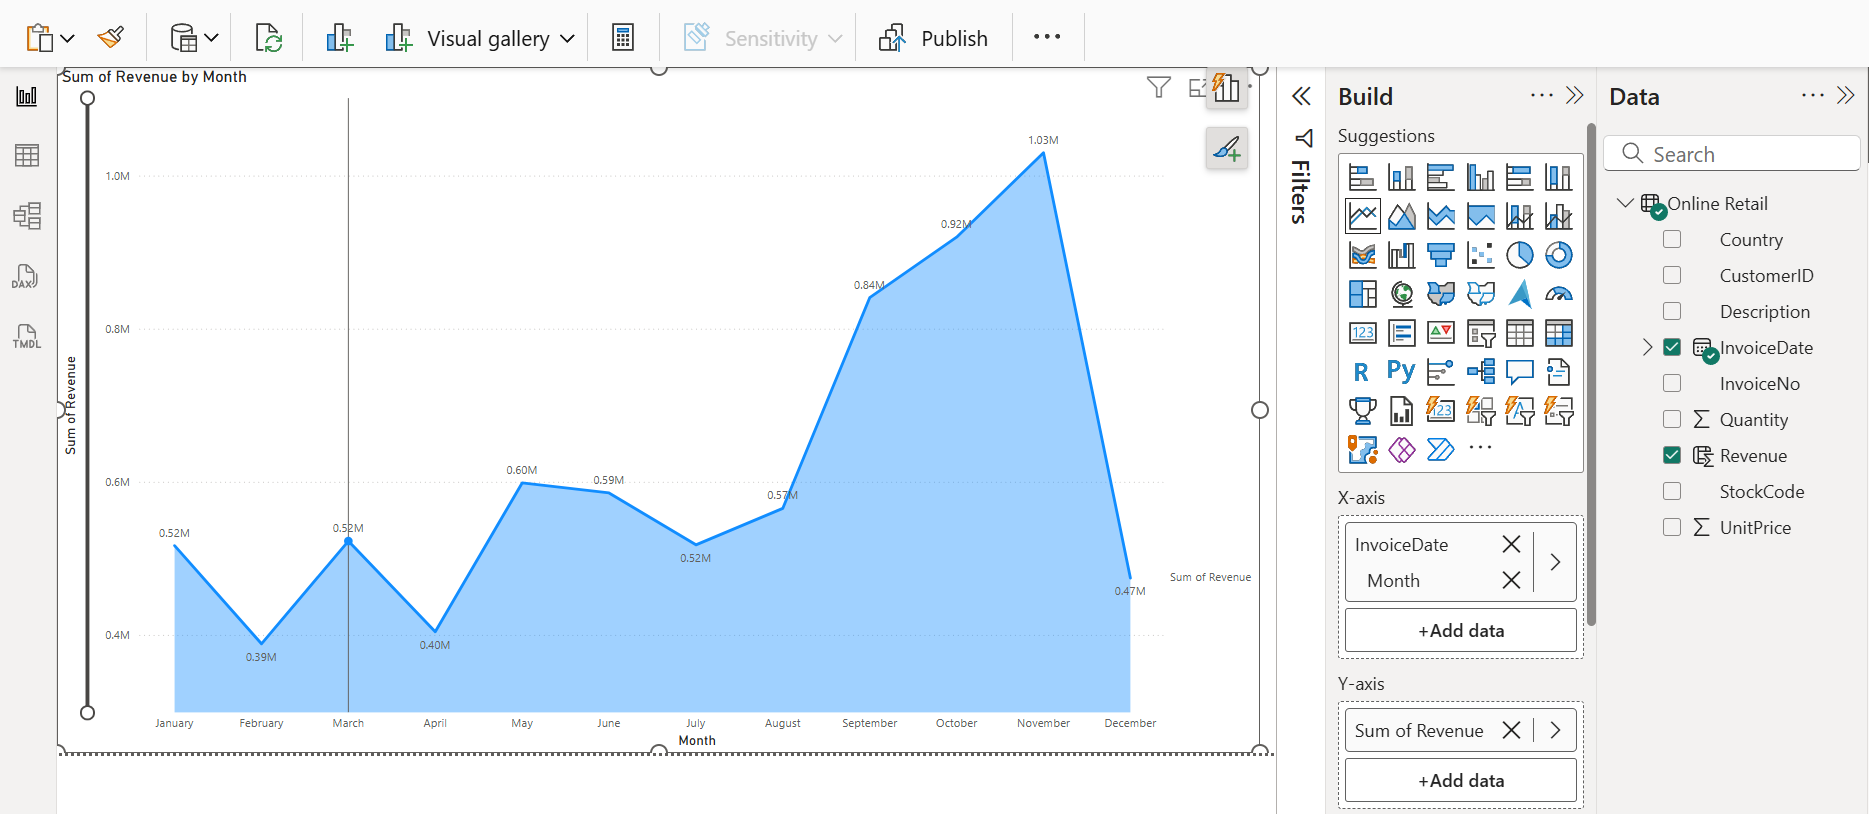

The page's visual inventory and layout, read from the dashboard file:
{"tool":"powerbi","page":{"name":"Page 1","canvas":[1280,720],"ordinal":0},"visuals":[{"type":"lineChart","fields":{"Category":["Online Retail.InvoiceDate.Variation.Date Hierarchy.Month"],"Y":["Sum(Online Retail.Revenue)"]},"box":[77.4,127.1,1121.8,536.1],"z":0}]}

Visuals, with their boxes on the page's 1280x720 design canvas (x1, y1, x2, y2). These are canvas units, not pixel positions in the 1869x814 screenshot, which may show the page scaled, cropped or inside an application window:
lineChart - Online Retail.InvoiceDate.Variation.Date Hierarchy.Month x Sum(Online Retail.Revenue): 77/127/1199/663
